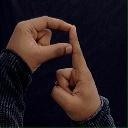hand: (51, 25, 103, 122), (5, 15, 73, 73)
